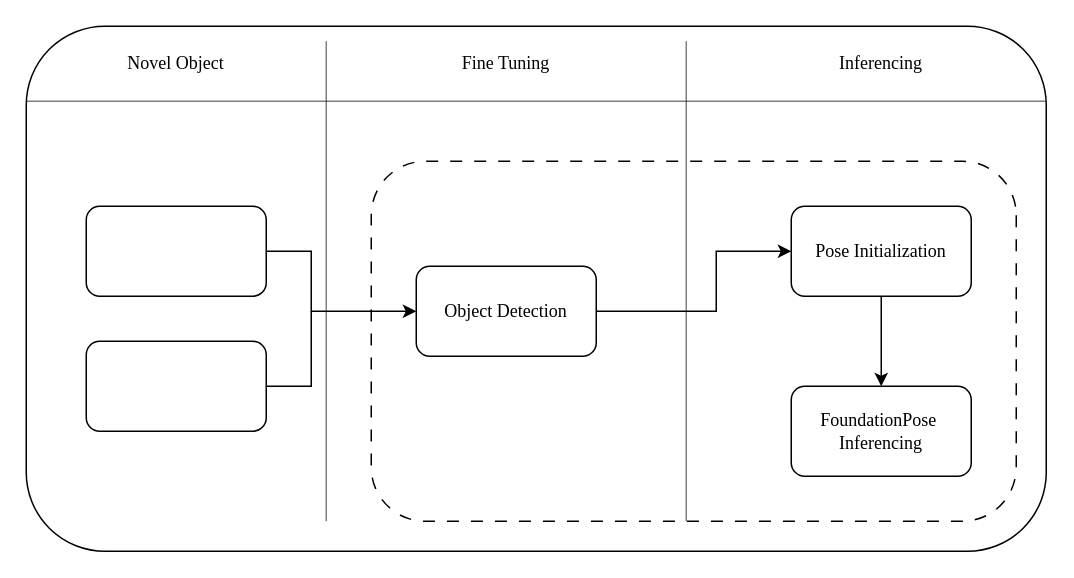
Image size: 1074x578. Some labels were removed from this diagram. The centre of each missing label's shape, as x and y in pixels:
"CAD" belongs at point (175, 250).
"Synthetic dataset" belongs at point (175, 385).
